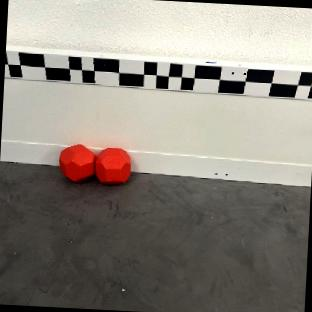V5_RED: (58, 143, 133, 187)
